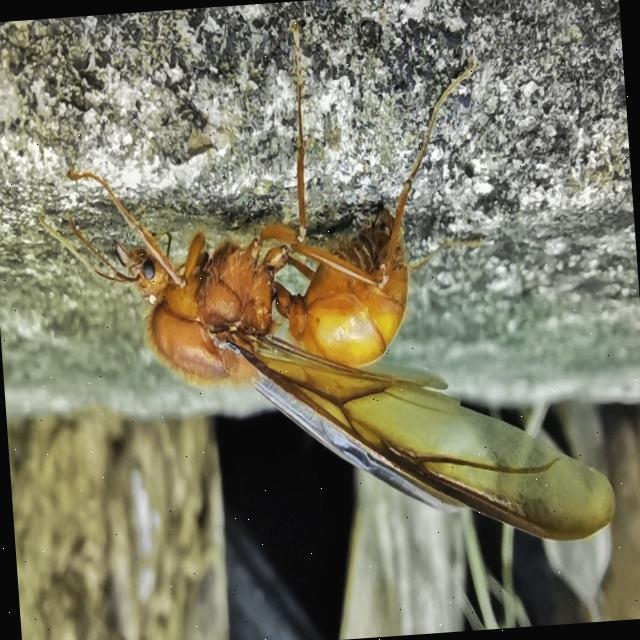Alive-Male-Alate: (25, 1, 618, 576)
